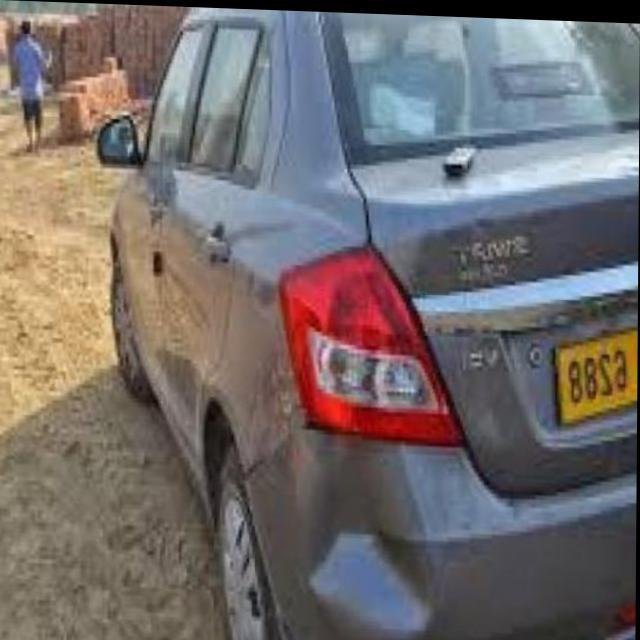dent: (294, 435, 435, 639)
